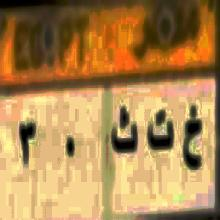0: (57, 120, 85, 172)
3: (10, 115, 40, 169)
khaa: (182, 100, 204, 176)
taa: (146, 107, 175, 158)
thaa: (109, 104, 141, 160)
